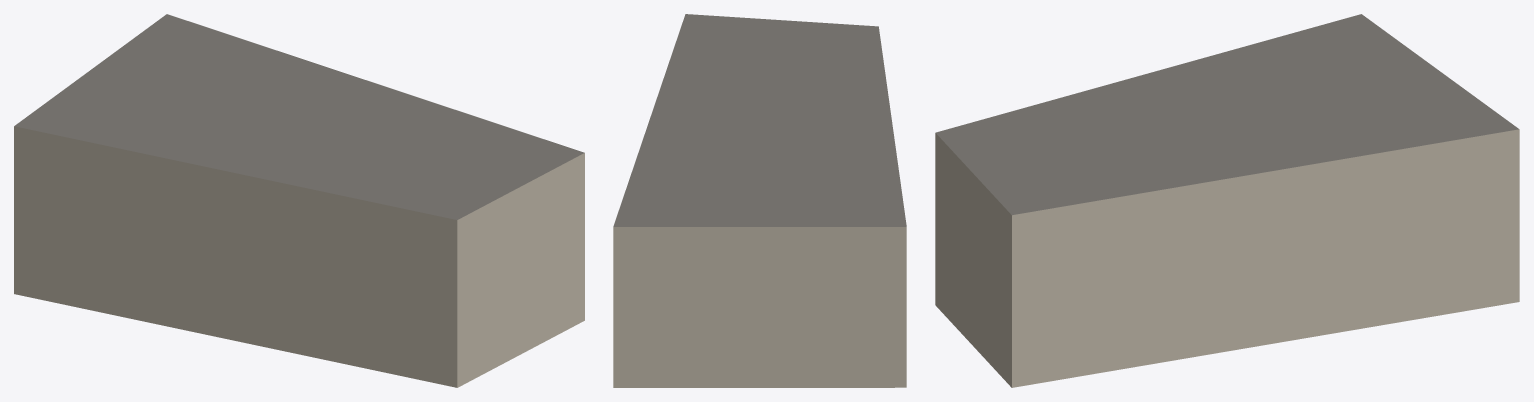
The picture shows the model from 3 angles, left to right: view 1: azimuth 30°, elevation 25°; view 2: azimuth 150°, elevation 25°; view 3: azimuth 270°, elevation 25°; orthographic projection. The views are drawn at different scales.
Parts seen in each view (by area): view 1: HP-w369317503; view 2: HP-w369317503; view 3: HP-w369317503.
Part boxes in pixels (x1,y1,x2,y2): HP-w369317503: [14, 14, 584, 387]; HP-w369317503: [613, 14, 906, 387]; HP-w369317503: [935, 14, 1519, 387].
Size of the model in its own units: 44.98 by 18 by 55.17.
